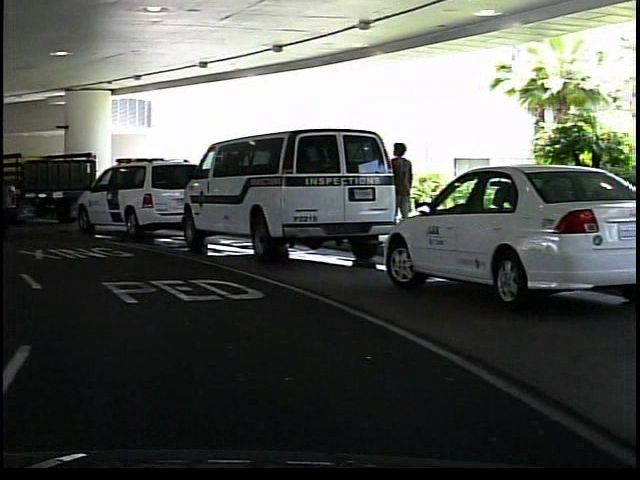person: (380, 138, 416, 250)
